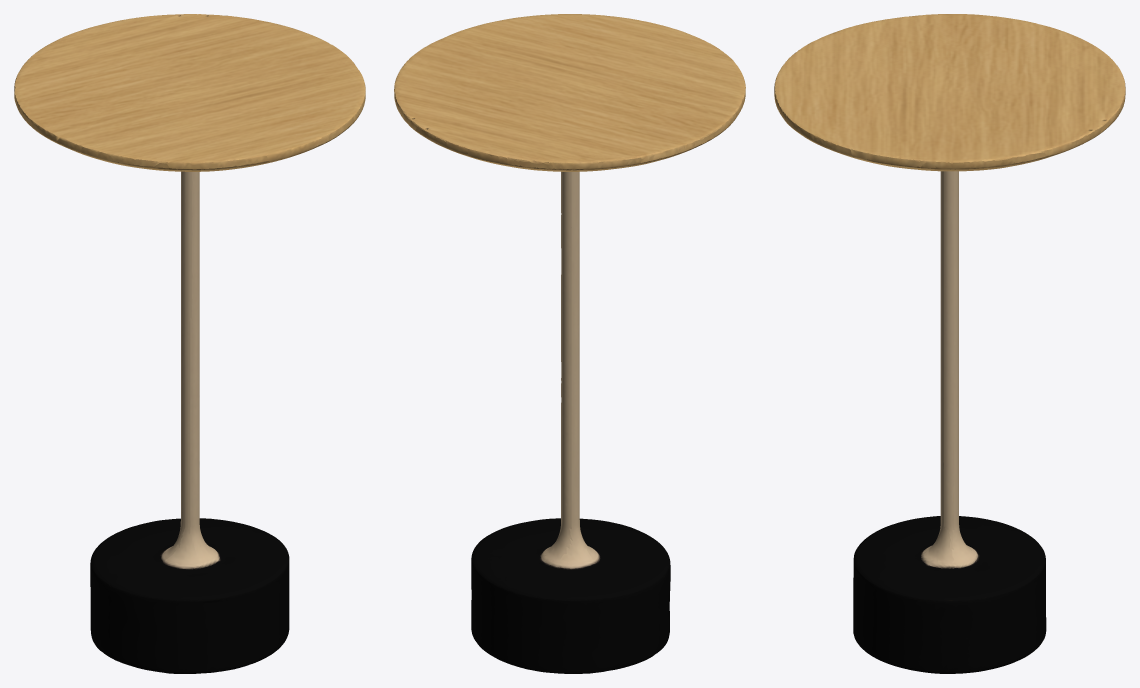
Rendered from item_9f0dcd41.glb.
3 views of the same model, side by side, from view 1: azimuth 30°, elevation 25°; view 2: azimuth 150°, elevation 25°; view 3: azimuth 270°, elevation 25° (orthographic).
Parts seen in each view (by area): view 1: world; view 2: world; view 3: world.
Part boxes in pixels (x1,y1,x2,y2): world: (14,14,365,673); world: (394,14,745,673); world: (774,14,1125,673).
Size of the model in its own units: 0.4078 by 0.7 by 0.4079.
1 material, 1 textured.
